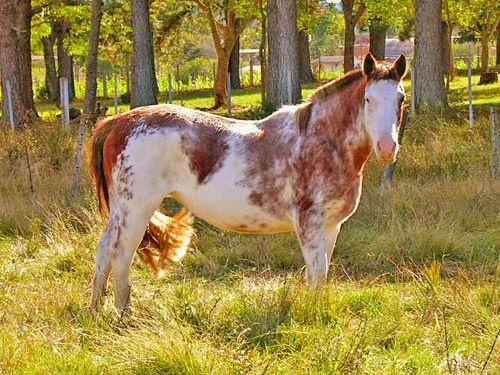horse: (85, 51, 408, 322)
